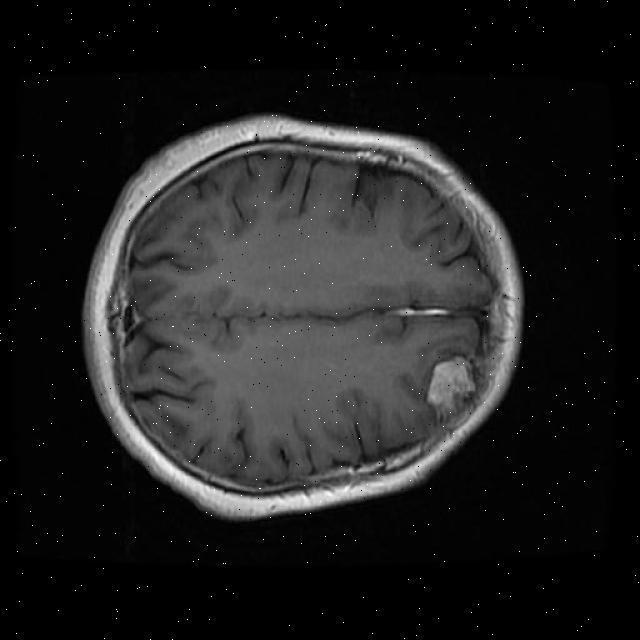Meningioma: (428, 356, 475, 417)
